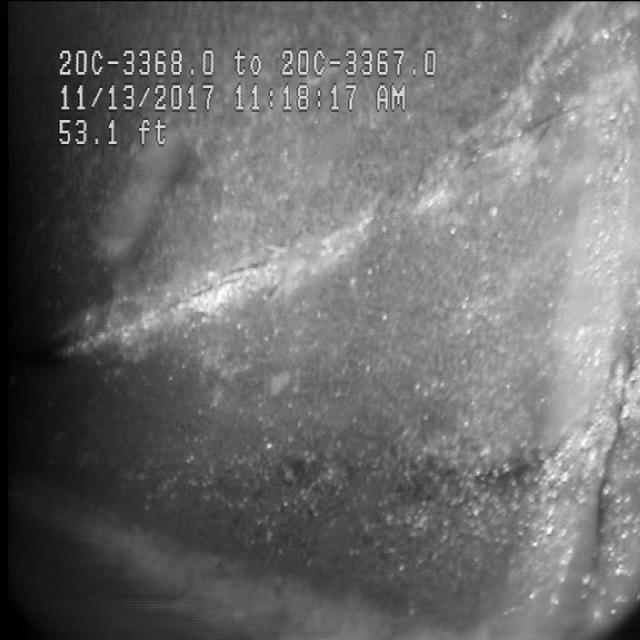Crack: (158, 135, 526, 376)
